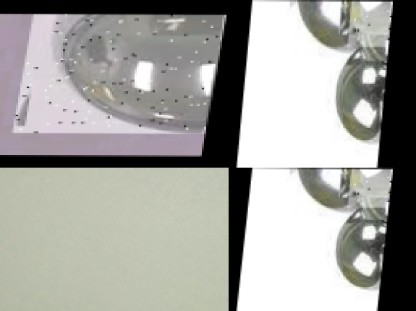ironball: (17, 12, 226, 132), (323, 51, 373, 144), (300, 0, 393, 48), (331, 203, 375, 302), (293, 166, 374, 211)
